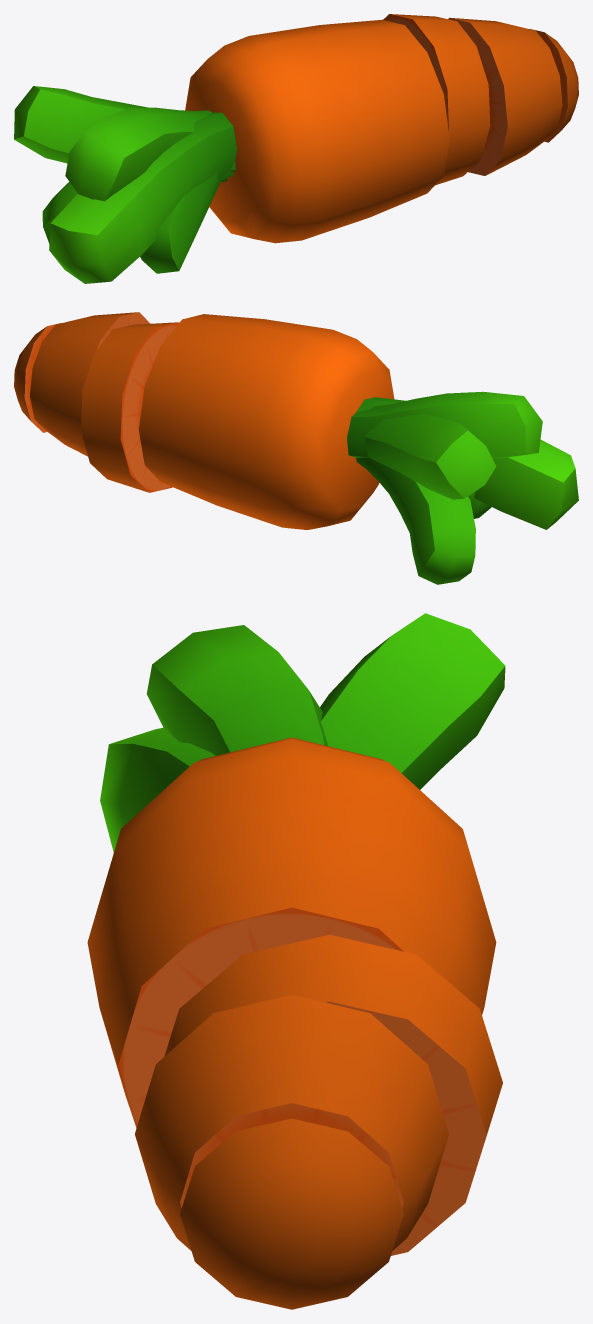
Rendered from Carrot_S3.fbx.
3 renders of one model, top to bottom at view 1: azimuth 30°, elevation 25°; view 2: azimuth 150°, elevation 25°; view 3: azimuth 270°, elevation 25°, orthographic. The views are drawn at different scales.
Visible parts, largest first — view 1: Carrot_S3; view 2: Carrot_S3; view 3: Carrot_S3.
Boxes of the visible parts, x1,y1,x2,y2 form: Carrot_S3: (14, 14, 578, 283); Carrot_S3: (14, 312, 578, 584); Carrot_S3: (87, 613, 505, 1309).
Bounding box in the file's own units: 108 × 36.65 × 37.47.
